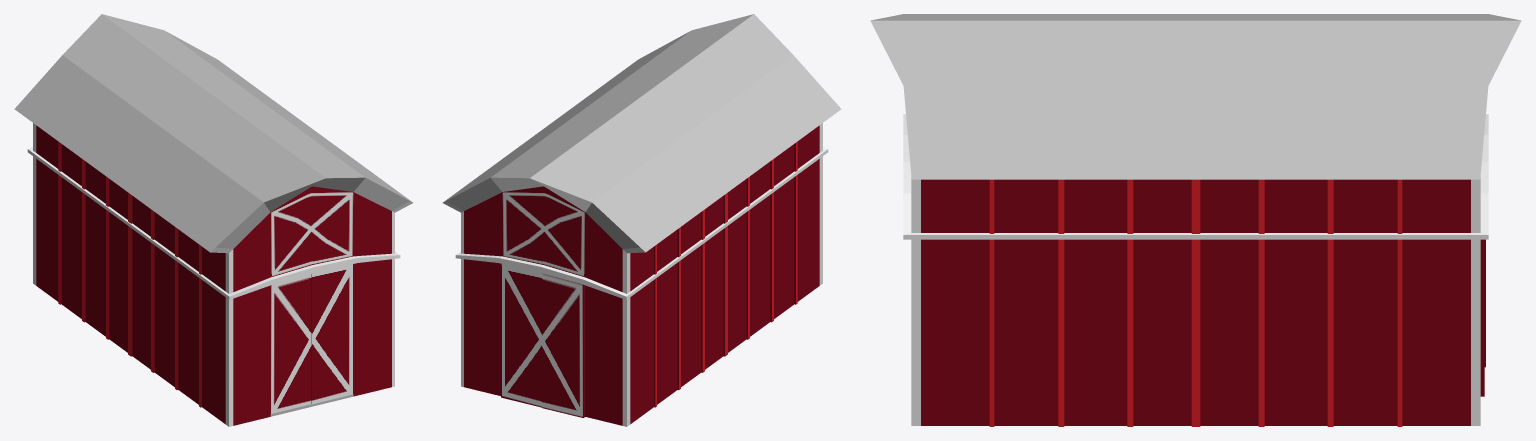
File: barn.fbx
3 views of the same model, side by side, from view 1: azimuth 30°, elevation 25°; view 2: azimuth 150°, elevation 25°; view 3: azimuth 270°, elevation 25° (orthographic). The views are drawn at different scales.
Visible parts, largest first — view 1: Cube, Cube.002, Cube.001; view 2: Cube, Cube.003, Cube.004; view 3: Cube, Cube.004.
Boxes of the visible parts, x1=… form: Cube: x1=14, y1=14, x2=413, y2=426; Cube.002: x1=311, y1=264, x2=353, y2=404; Cube.001: x1=270, y1=274, x2=311, y2=413; Cube: x1=442, y1=14, x2=841, y2=426; Cube.003: x1=542, y1=273, x2=585, y2=417; Cube.004: x1=501, y1=263, x2=541, y2=407; Cube: x1=870, y1=14, x2=1521, y2=426; Cube.004: x1=1480, y1=239, x2=1484, y2=396.
Bounding box in the file's own units: 1005 × 1128 × 1921.
1 material, 1 textured.
